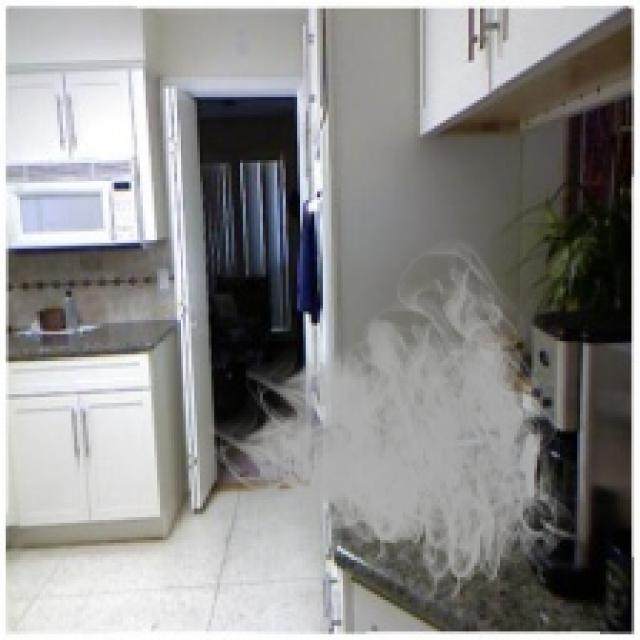smoke: (208, 235, 583, 614)
